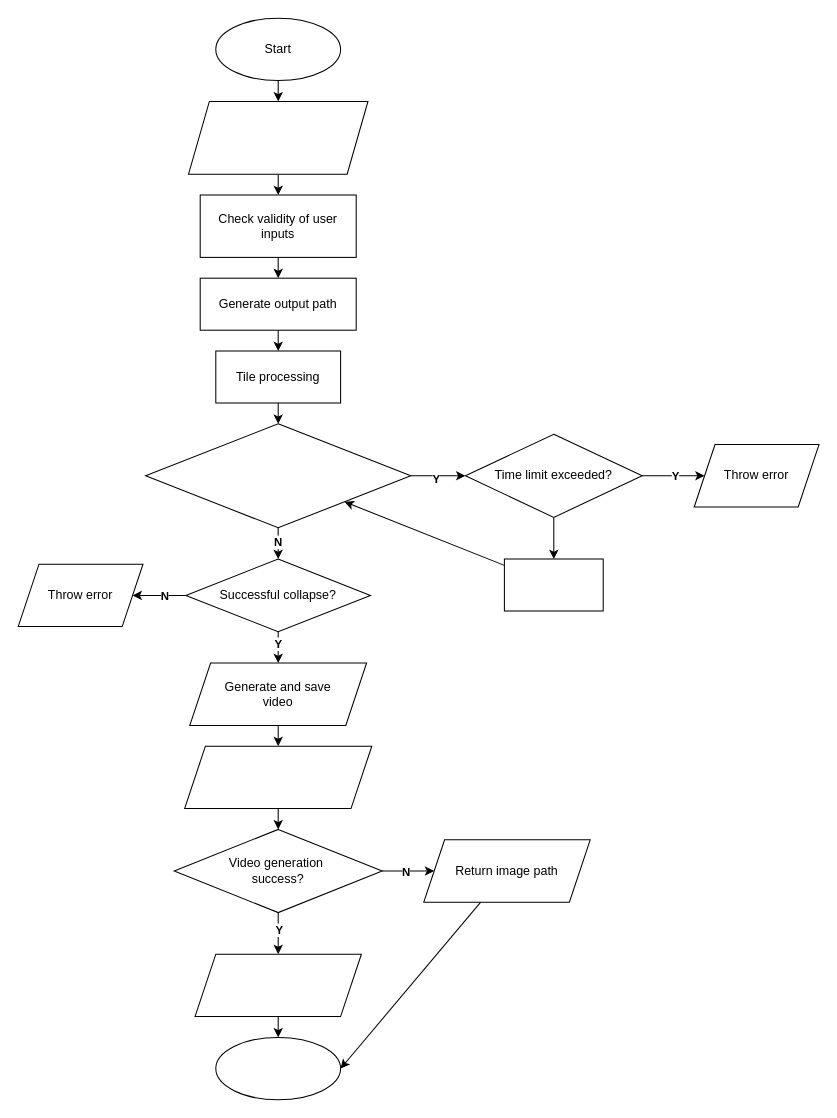
Image size: 837x1118. Some labels were removed from this diagram. Here are the shapes that lost their labels. From the top down, the centre of each, then its label:
At pixel 278 137: "Get the image and parameters from the user".
At pixel 278 475: "Collapse attempts < 50 and a succesful collapse hasn't happened".
At pixel 553 584: "Collapse".
At pixel 278 777: "Generate and save image".
At pixel 277 985: "Return image and video paths".
At pixel 278 1068: "Stop".
